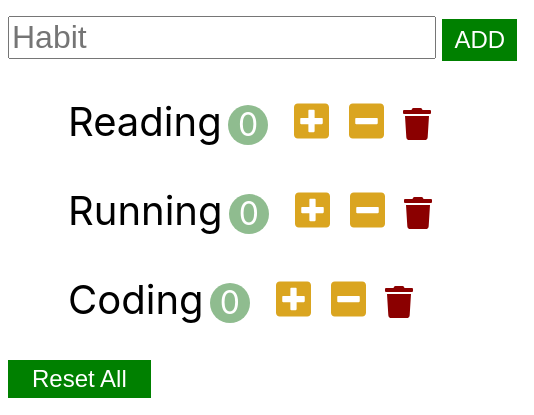
Scenario: Habit Tracker › delete an item
Click the button titled "delete" in the row of "Reading" at (417,126), box [397,106,437,145]
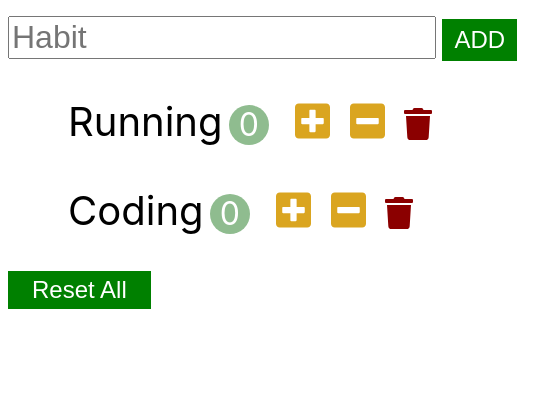
Expected: the text "Reading" is gone
